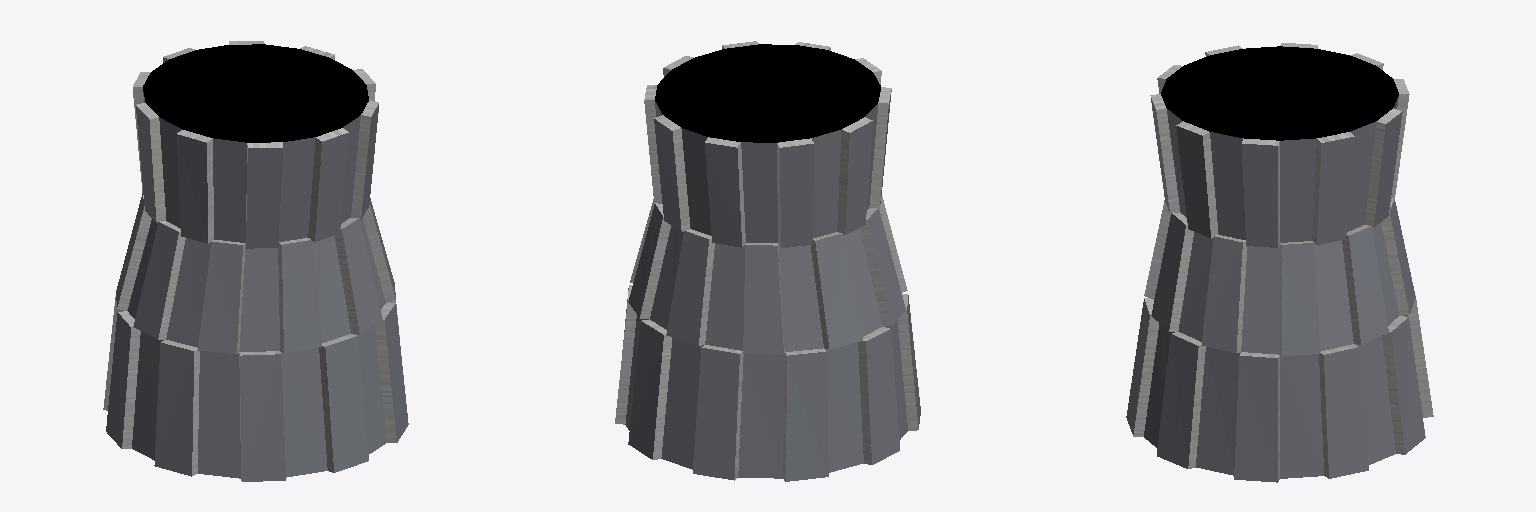
The picture shows the model from 3 angles: view 1: azimuth 30°, elevation 25°; view 2: azimuth 150°, elevation 25°; view 3: azimuth 270°, elevation 25°; orthographic projection.
Visible parts, largest first — view 1: Torre_l; view 2: Torre_l; view 3: Torre_l.
Part boxes in pixels (bbox=[...]): Torre_l: bbox=[103, 41, 408, 481]; Torre_l: bbox=[615, 41, 920, 481]; Torre_l: bbox=[1126, 43, 1433, 482].
Size of the model in its own units: 58.96 by 68.73 by 58.95.
Materials: 3 (3 with a texture image).